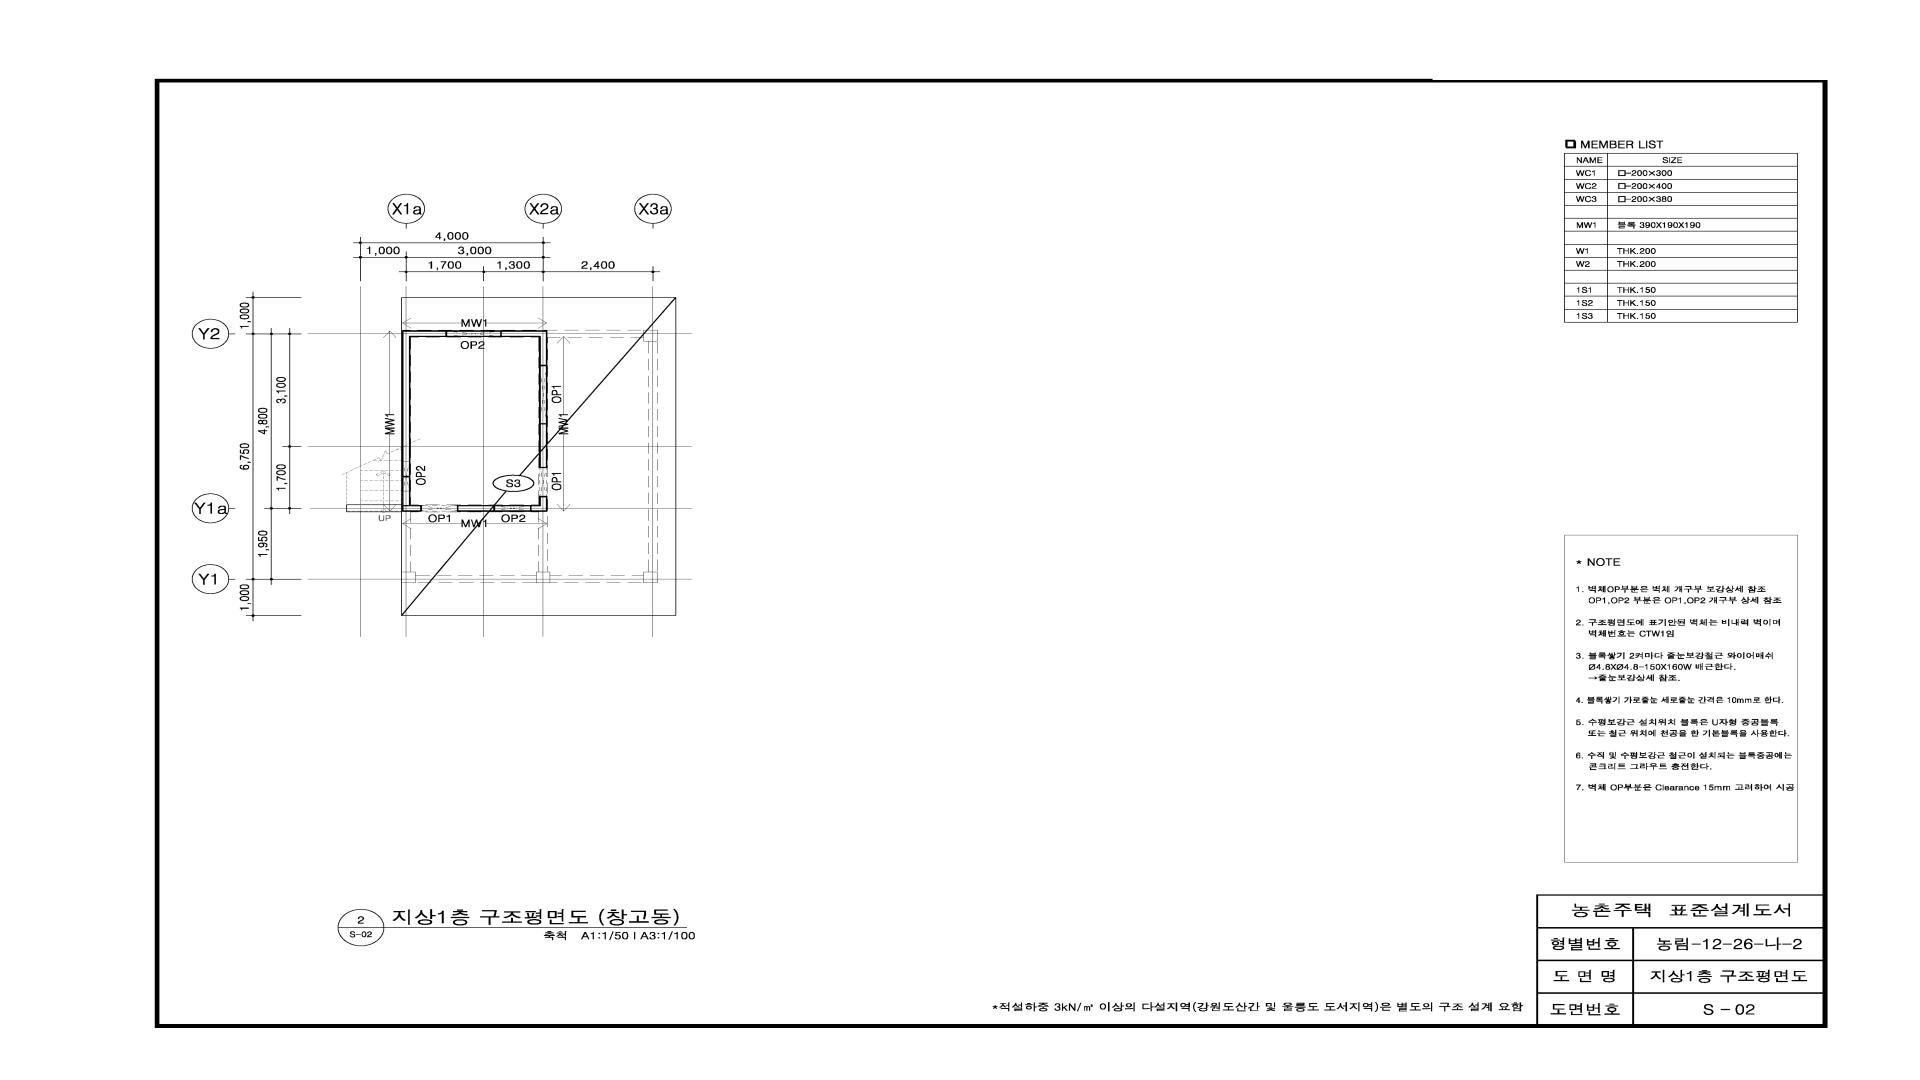wall: (401, 330, 447, 477), (500, 330, 548, 366), (538, 366, 548, 423), (538, 423, 548, 468), (346, 505, 401, 512), (447, 330, 500, 337), (530, 496, 548, 512), (401, 477, 411, 505), (457, 505, 495, 512), (495, 505, 530, 512), (401, 505, 422, 512)
